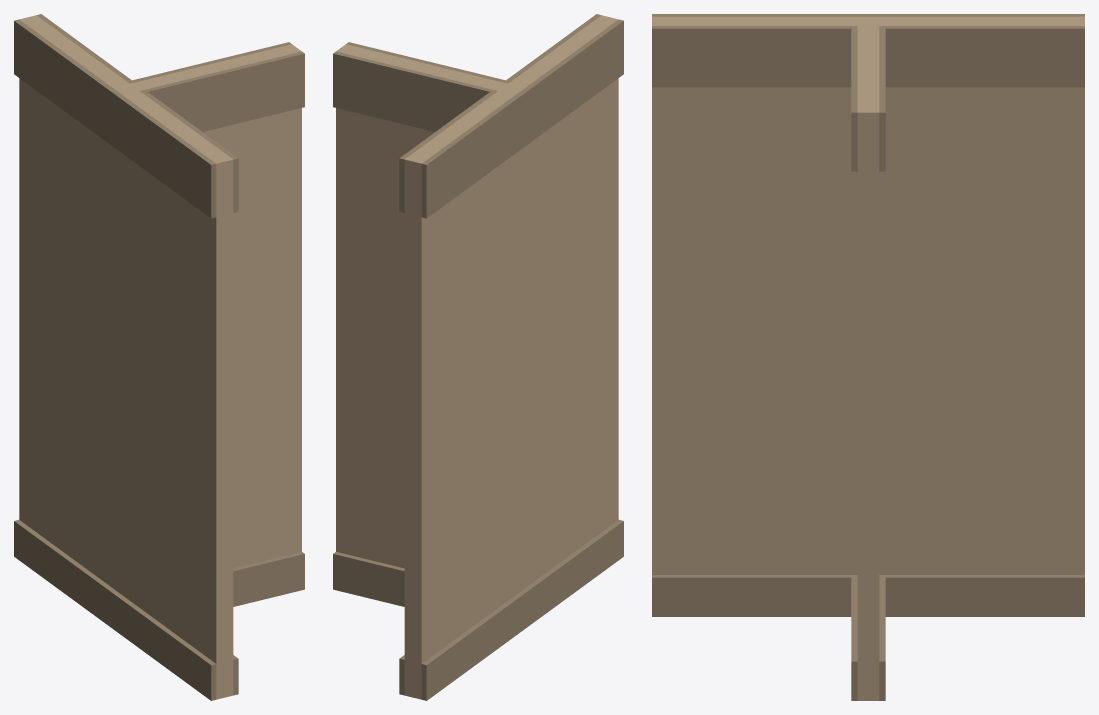
The model's file is Parede_C.fbx.
The picture shows the model from 3 angles, left to right: view 1: azimuth 30°, elevation 25°; view 2: azimuth 150°, elevation 25°; view 3: azimuth 270°, elevation 25°; orthographic projection. The views are drawn at different scales.
Visible parts, largest first — view 1: Parede_C; view 2: Parede_C; view 3: Parede_C.
Boxes of the visible parts, bbox=[...] form: Parede_C: bbox=[14, 14, 304, 700]; Parede_C: bbox=[333, 14, 623, 700]; Parede_C: bbox=[652, 14, 1084, 700].
Bounding box in the file's own units: 108 × 300 × 200.
